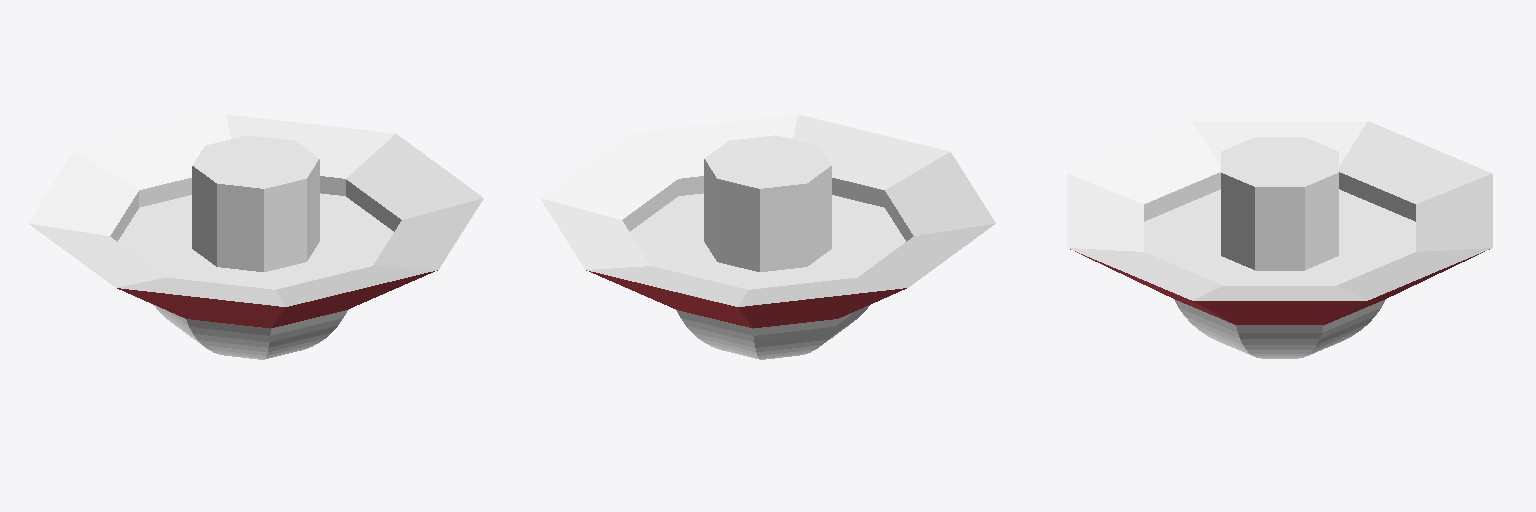
The model's file is LuzDoTeto.obj.
3 views of the same model, side by side, from view 1: azimuth 30°, elevation 25°; view 2: azimuth 150°, elevation 25°; view 3: azimuth 270°, elevation 25° (orthographic).
Parts seen in each view (by area): view 1: Mesh1 LuzTeto1 Model, Mesh2 Bulbo1 Model; view 2: Mesh1 LuzTeto1 Model, Mesh2 Bulbo1 Model; view 3: Mesh1 LuzTeto1 Model, Mesh2 Bulbo1 Model.
Part boxes in pixels (bbox=[...]): Mesh1 LuzTeto1 Model: bbox=[28, 114, 483, 328]; Mesh2 Bulbo1 Model: bbox=[154, 305, 348, 359]; Mesh1 LuzTeto1 Model: bbox=[540, 114, 995, 328]; Mesh2 Bulbo1 Model: bbox=[675, 305, 869, 359]; Mesh1 LuzTeto1 Model: bbox=[1067, 121, 1492, 324]; Mesh2 Bulbo1 Model: bbox=[1174, 299, 1385, 358].
Size of the model in its own units: 0.2772 by 0.135 by 0.2772.